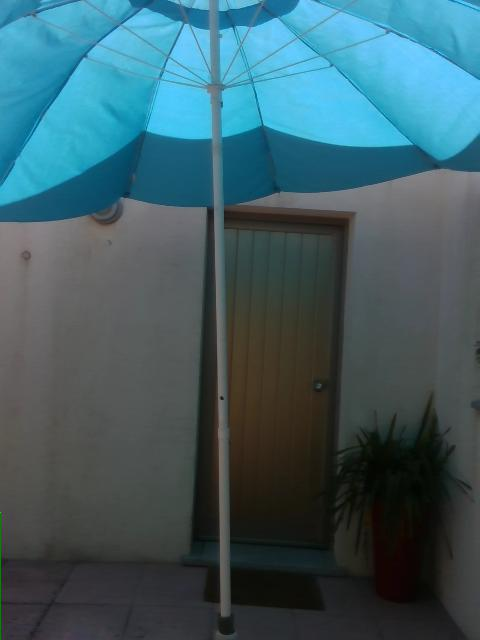door: (190, 202, 358, 570)
